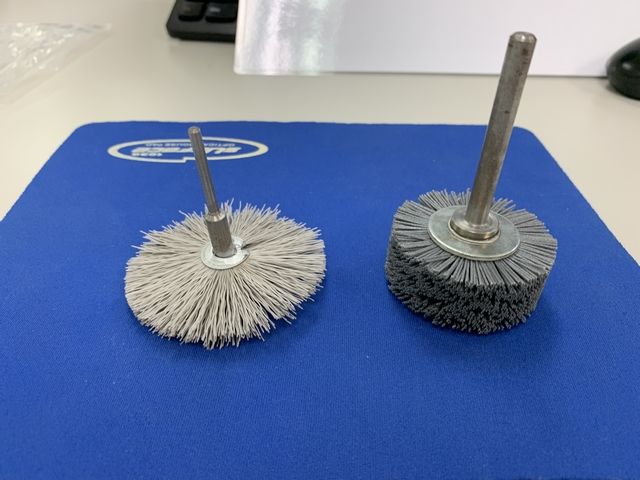TOOL: (111, 123, 329, 346), (112, 124, 331, 302), (159, 123, 326, 342), (111, 123, 275, 337)
Wheel Brush: (385, 24, 567, 338), (386, 22, 565, 306), (428, 25, 563, 336), (385, 22, 519, 334), (386, 148, 564, 334)
